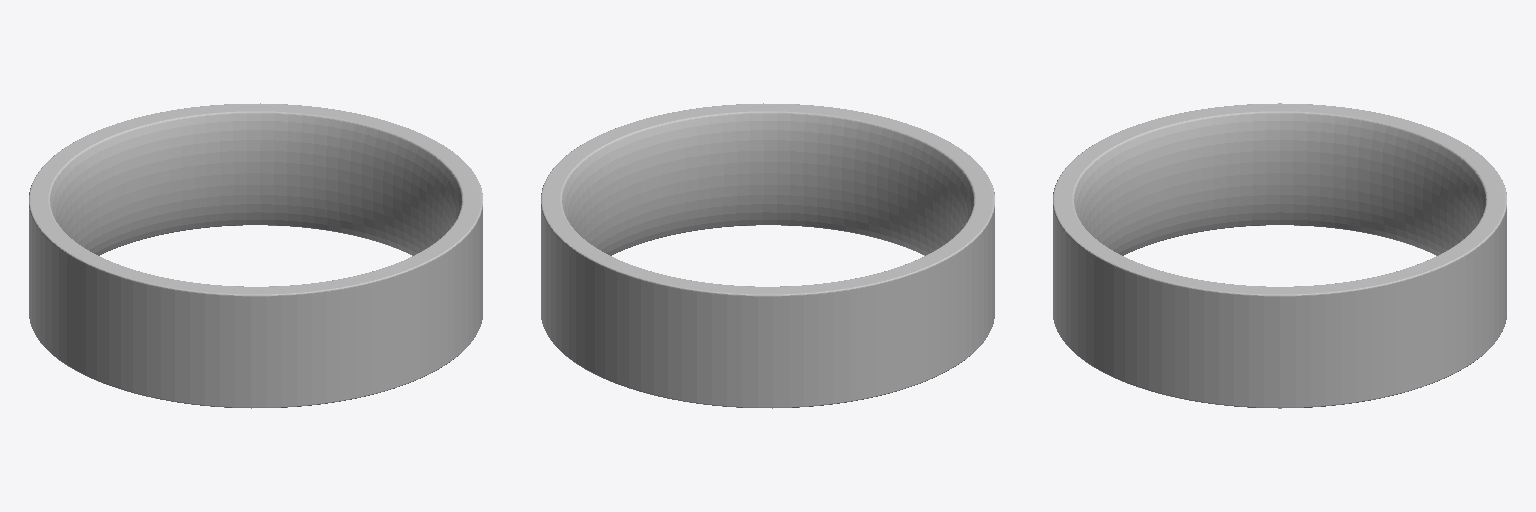
The picture shows the model from 3 angles: view 1: azimuth 30°, elevation 25°; view 2: azimuth 150°, elevation 25°; view 3: azimuth 270°, elevation 25°; orthographic projection.
Visible parts, largest first — view 1: JieQuan; view 2: JieQuan; view 3: JieQuan.
Boxes of the visible parts, x1=… form: JieQuan: x1=29, y1=103, x2=482, y2=408; JieQuan: x1=541, y1=103, x2=994, y2=408; JieQuan: x1=1053, y1=103, x2=1506, y2=408.
Bounding box in the file's own units: 253 × 70 × 253.